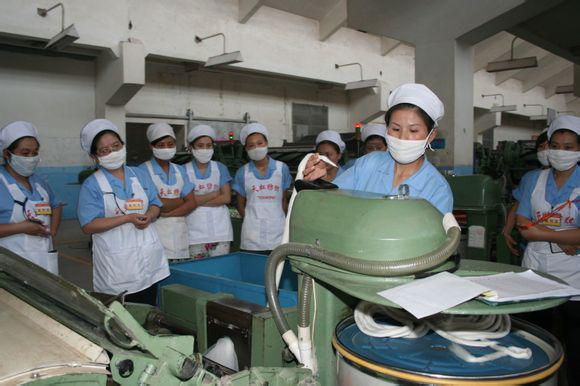NONE: (316, 150, 340, 169), (367, 142, 386, 162)
OK: (6, 138, 46, 178), (551, 138, 580, 174), (98, 140, 127, 172), (153, 139, 176, 162), (539, 142, 559, 167), (194, 140, 214, 163), (247, 142, 268, 162)
WRONG: (387, 121, 427, 161)
